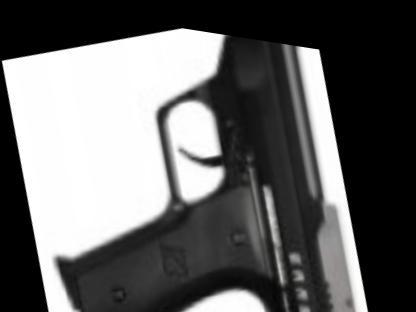pistol: (0, 2, 409, 311)
